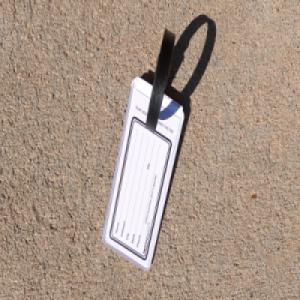LuggageTag: (102, 27, 184, 270)
